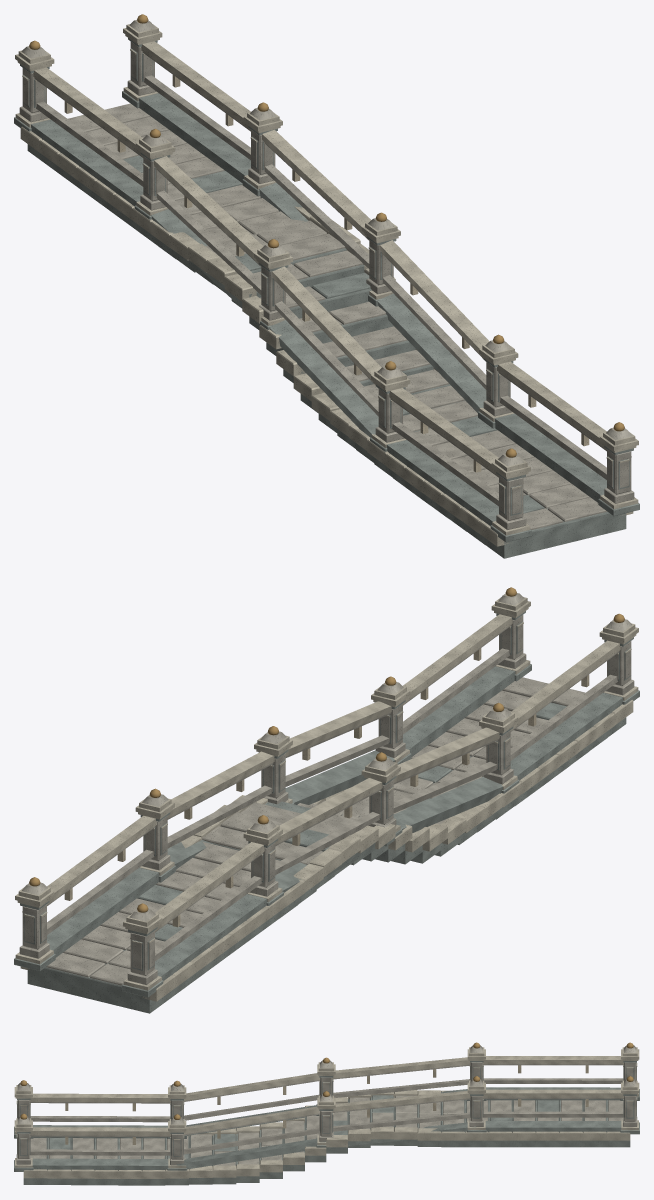
3 renders of one model, top to bottom at view 1: azimuth 30°, elevation 25°; view 2: azimuth 150°, elevation 25°; view 3: azimuth 270°, elevation 25°, orthographic. The views are drawn at different scales.
Parts seen in each view (by area): view 1: C22_stone, C22_cool, C22_light, C22_relief, C22_motif; view 2: C22_stone, C22_light, C22_cool, C22_relief, C22_motif; view 3: C22_stone, C22_light, C22_cool, C22_relief, C22_motif.
Boxes of the visible parts, left/top/right/bottom form: C22_stone: left=19, top=20, right=634, bottom=529; C22_cool: left=14, top=38, right=639, bottom=558; C22_light: left=15, top=24, right=638, bottom=546; C22_relief: left=64, top=75, right=589, bottom=472; C22_motif: left=29, top=14, right=624, bottom=457; C22_stone: left=19, top=593, right=634, bottom=985; C22_light: left=15, top=597, right=638, bottom=1001; C22_cool: left=14, top=611, right=639, bottom=1013; C22_relief: left=64, top=648, right=589, bottom=927; C22_motif: left=29, top=587, right=624, bottom=912; C22_stone: left=16, top=1045, right=637, bottom=1165; C22_light: left=14, top=1047, right=639, bottom=1178; C22_cool: left=14, top=1061, right=639, bottom=1185; C22_relief: left=65, top=1065, right=588, bottom=1144; C22_motif: left=20, top=1042, right=633, bottom=1119.
Bounding box in the file's own units: 1.93 × 2.29 × 12.08.
Materials: 5 (4 with a texture image).
